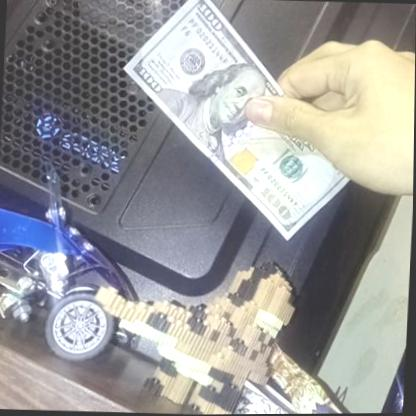one_hundred-front: (114, 0, 359, 244)
